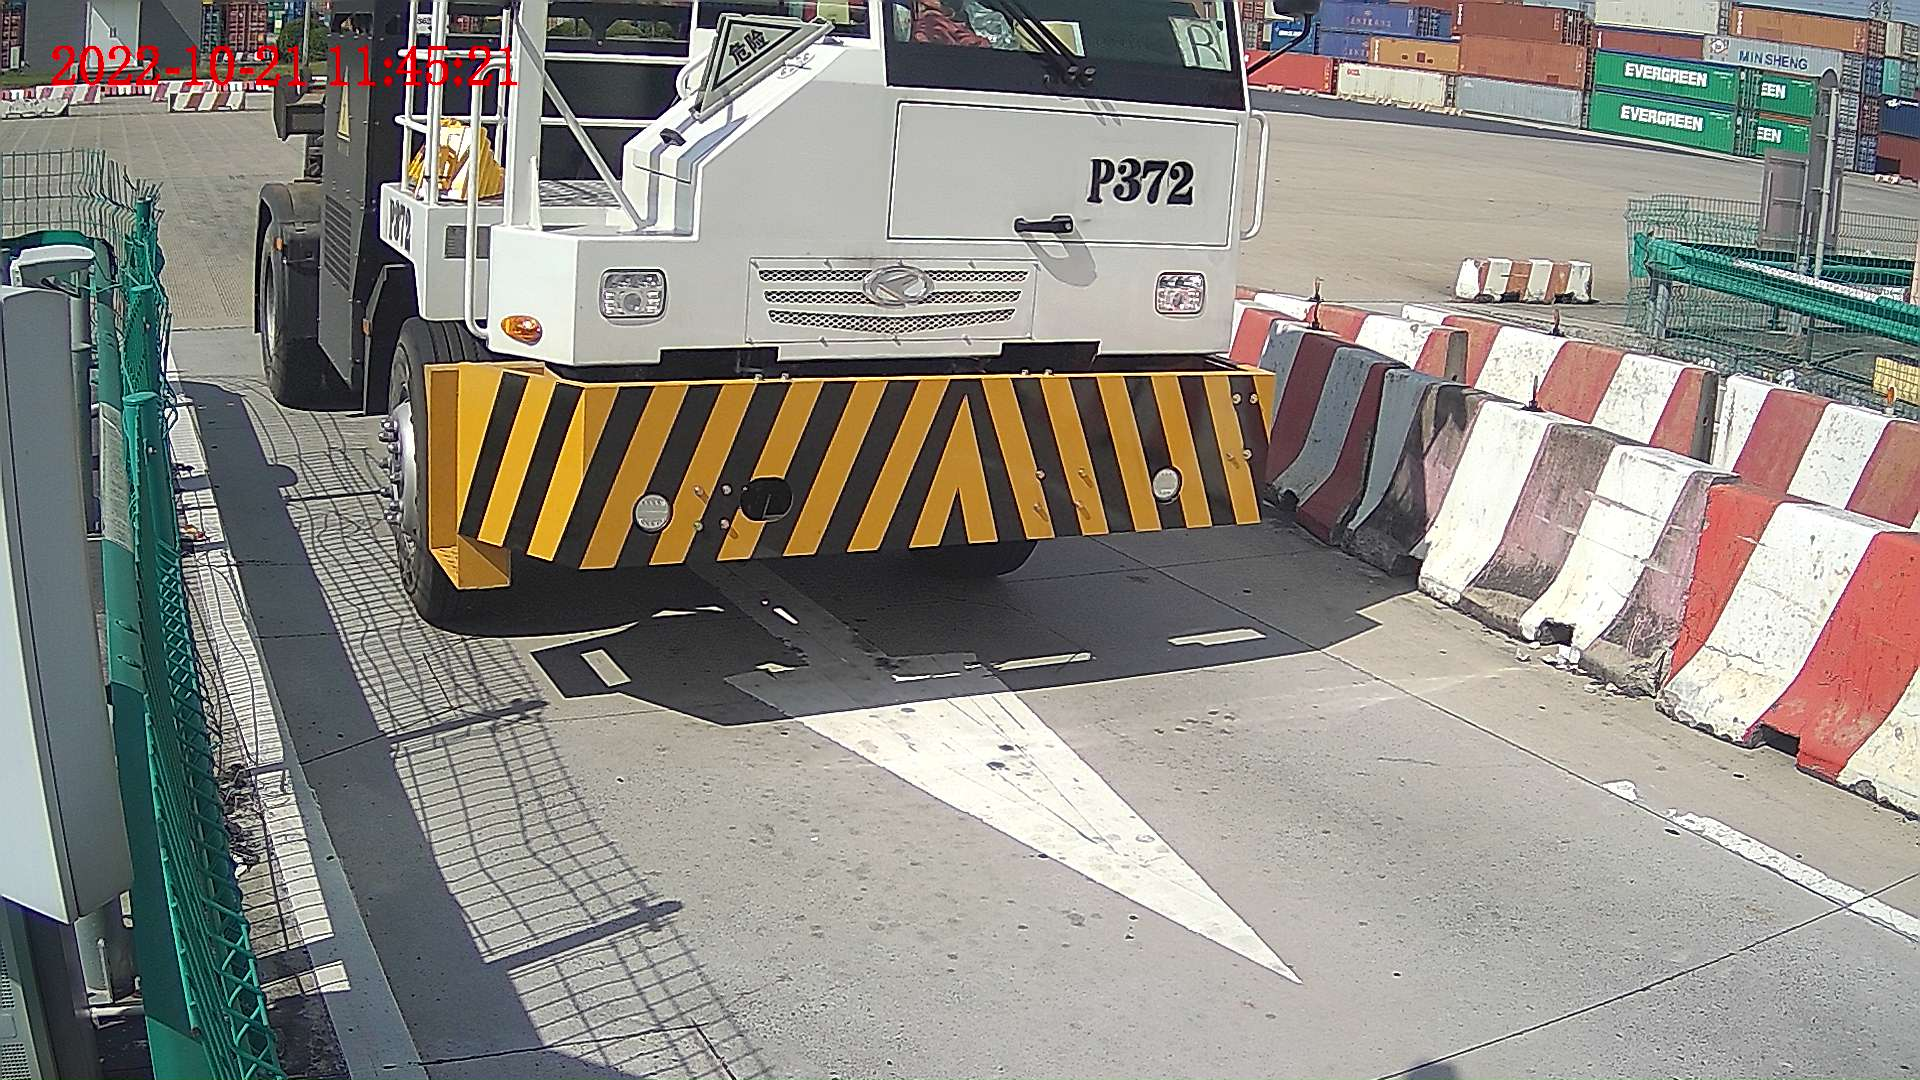head: (412, 1, 1270, 632)
